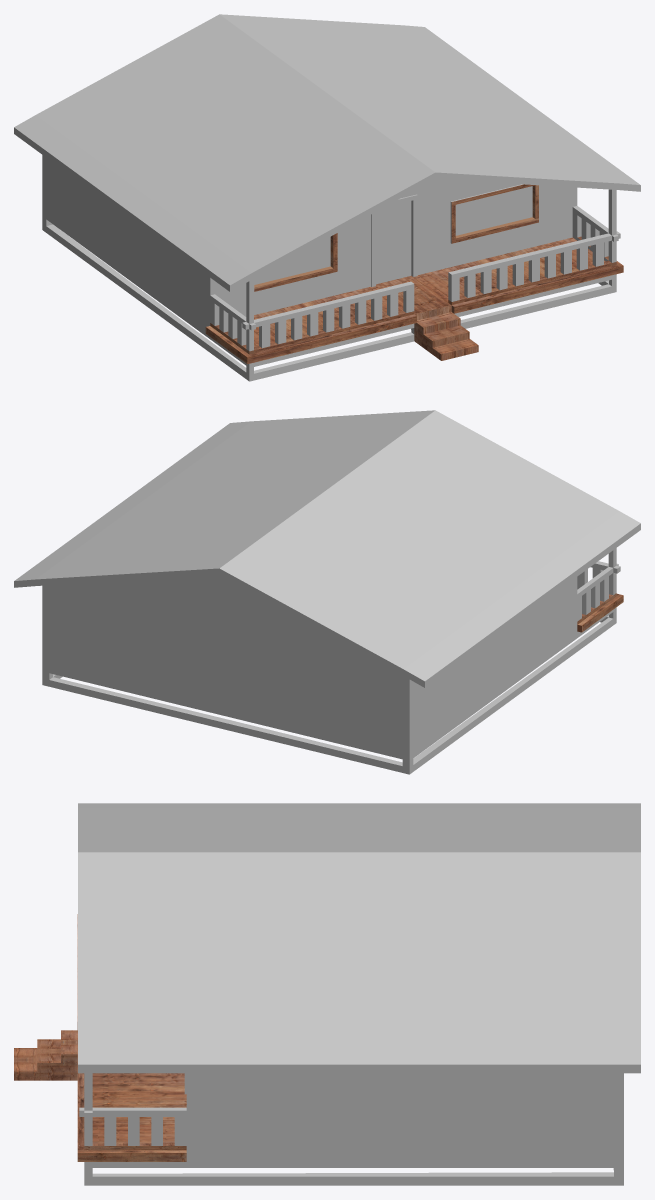
File: House.fbx
The picture shows the model from 3 angles, top to bottom: view 1: azimuth 30°, elevation 25°; view 2: azimuth 150°, elevation 25°; view 3: azimuth 270°, elevation 25°; orthographic projection. The views are drawn at different scales.
Visible parts, largest first — view 1: Cube; view 2: Cube; view 3: Cube.
Part boxes in pixels (box(x1,y1,x2,y2)): Cube: box(14, 14, 640, 381); Cube: box(14, 410, 640, 774); Cube: box(14, 803, 640, 1185).
Bounding box in the file's own units: 1172 × 453 × 1188.
